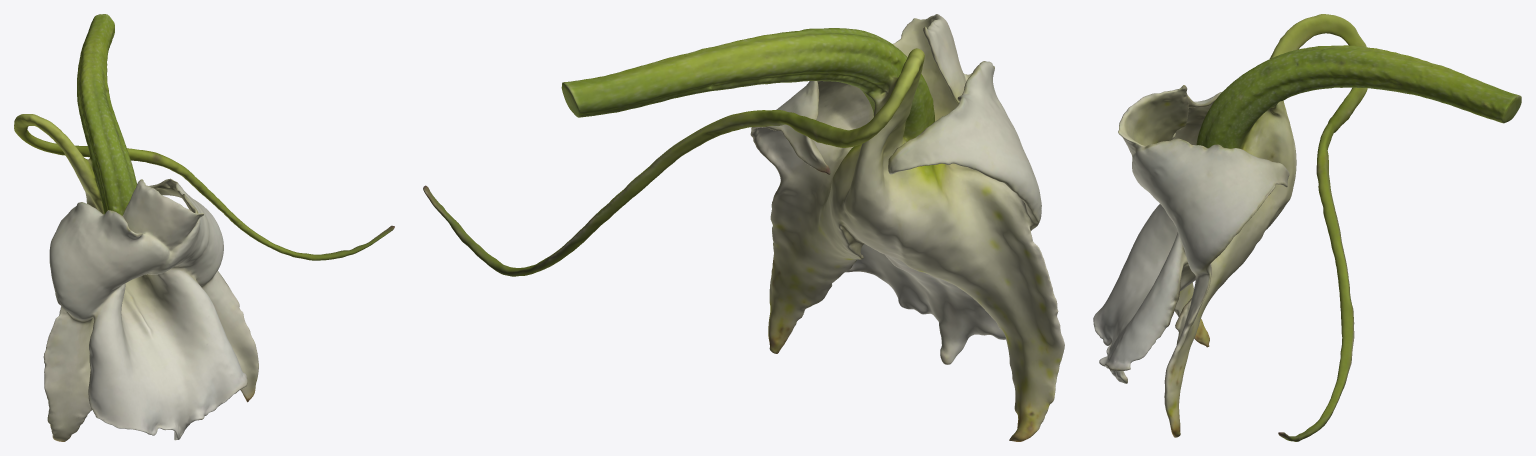
The model's file is Angraecum_magdalenae-100k-2048_std_draco.glb.
3 views of the same model, side by side, from view 1: azimuth 30°, elevation 25°; view 2: azimuth 150°, elevation 25°; view 3: azimuth 270°, elevation 25° (orthographic). The views are drawn at different scales.
Size of the model in its own units: 0.096 by 0.0699 by 0.0767.
1 material, 1 textured.
